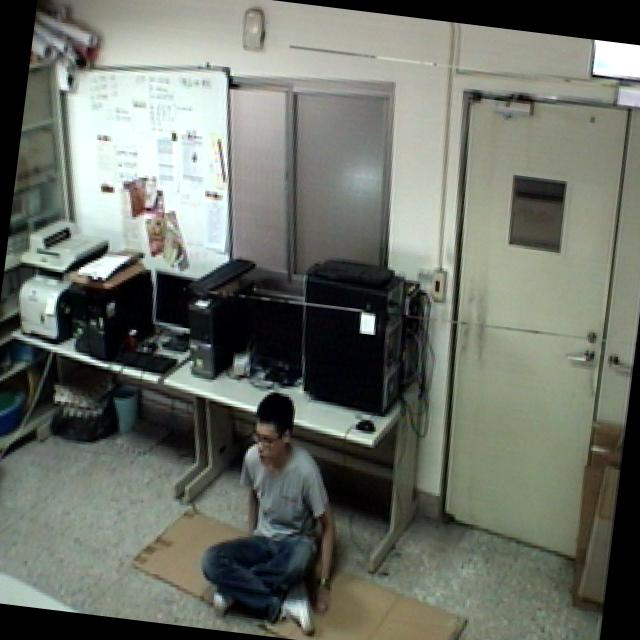sit: (186, 377, 363, 640)
